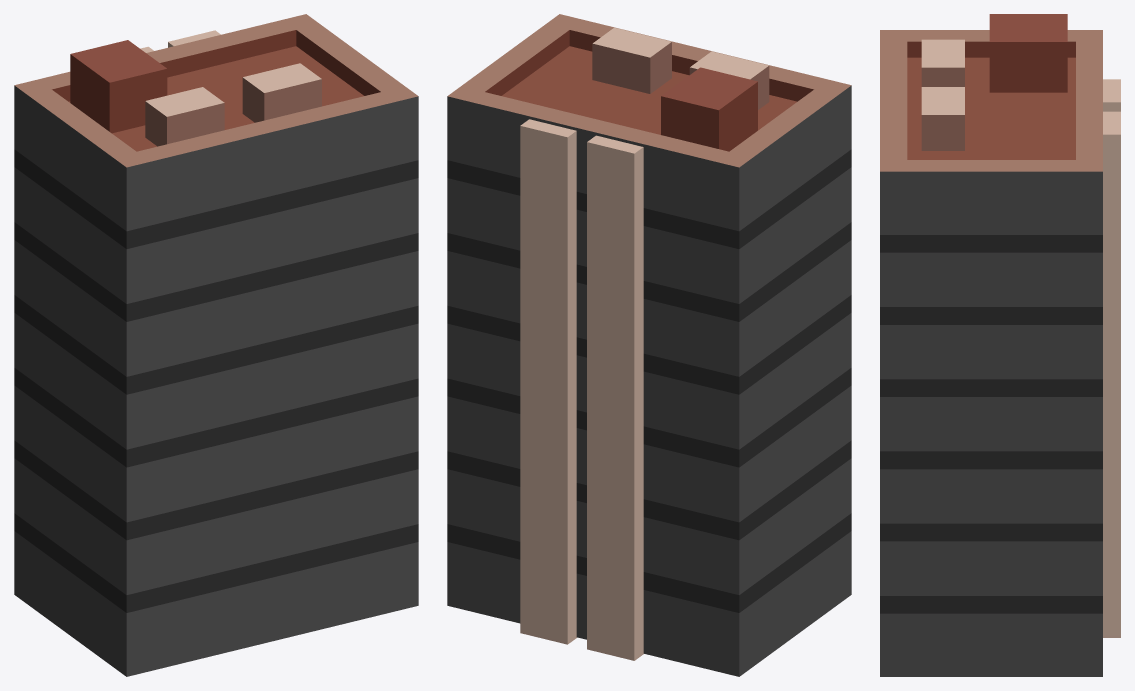
Rendered from SM_Building_02.fbx.
3 views of the same model, side by side, from view 1: azimuth 30°, elevation 25°; view 2: azimuth 150°, elevation 25°; view 3: azimuth 270°, elevation 25° (orthographic).
Parts seen in each view (by area): view 1: SM_Building_02; view 2: SM_Building_02; view 3: SM_Building_02.
Part boxes in pixels (<box>): SM_Building_02: <box>14,14,418,676</box>; SM_Building_02: <box>447,14,851,676</box>; SM_Building_02: <box>880,14,1120,676</box>.
Bounding box in the file's own units: 3 × 5.35 × 2.16.
